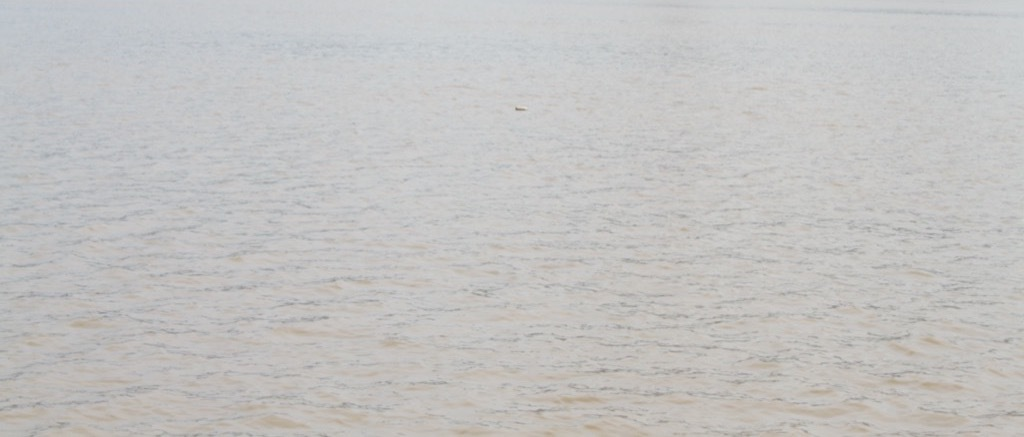plastic: (495, 89, 551, 134)
